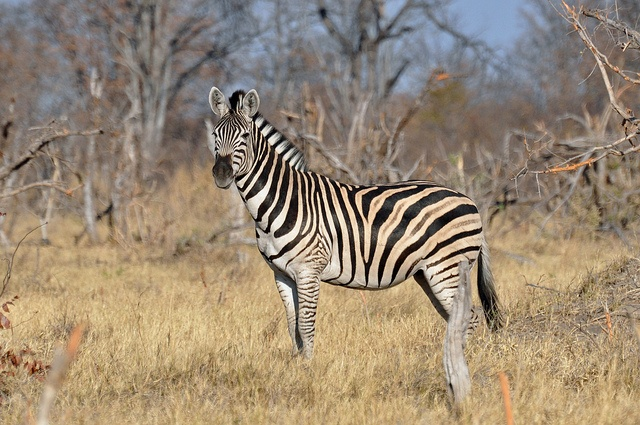zebra: (206, 85, 502, 399)
